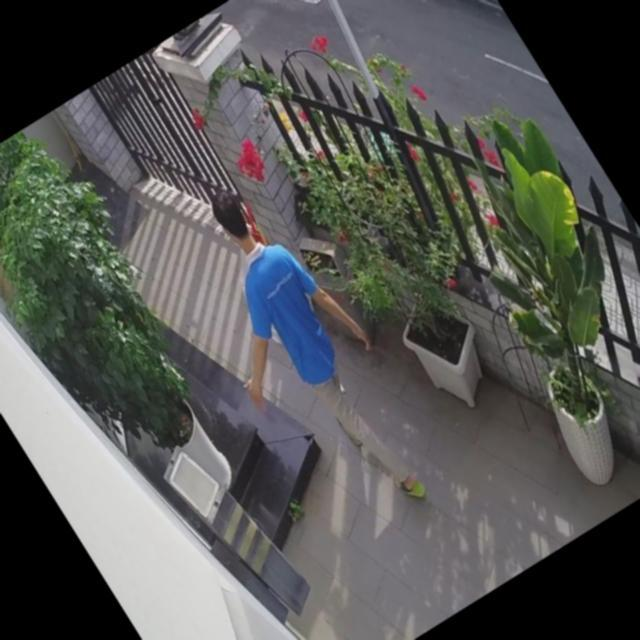person: (144, 162, 456, 548)
